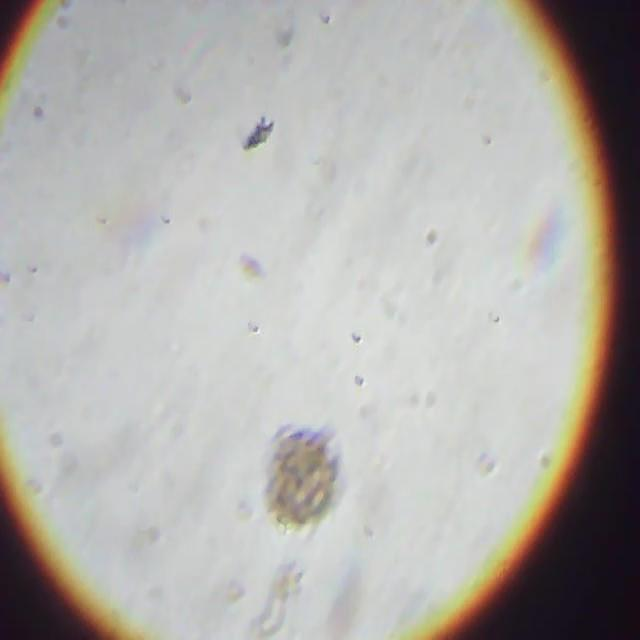alexandrium: (267, 421, 353, 538)
